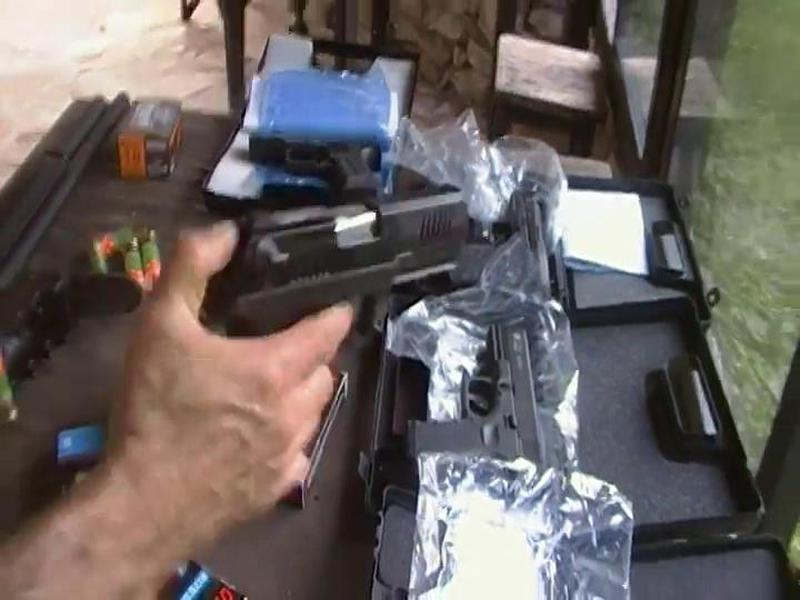Pistola: (145, 165, 522, 357)
